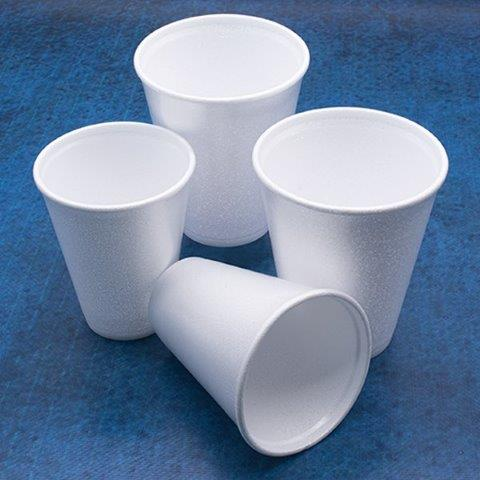sterofoam: (256, 110, 446, 353), (151, 256, 368, 450), (133, 16, 307, 243), (34, 121, 194, 340)
